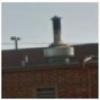chimneys: (50, 13, 65, 44)
